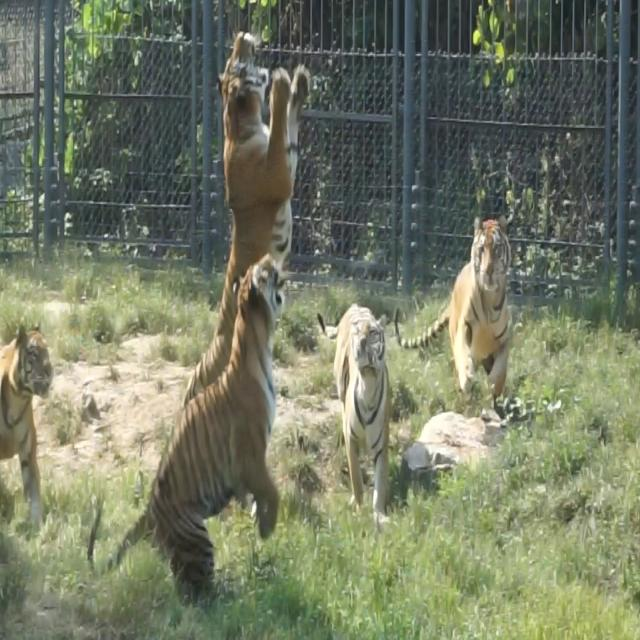Tiger: (84, 250, 285, 605), (183, 26, 310, 402), (316, 286, 411, 532), (395, 210, 512, 400), (0, 322, 53, 519)
